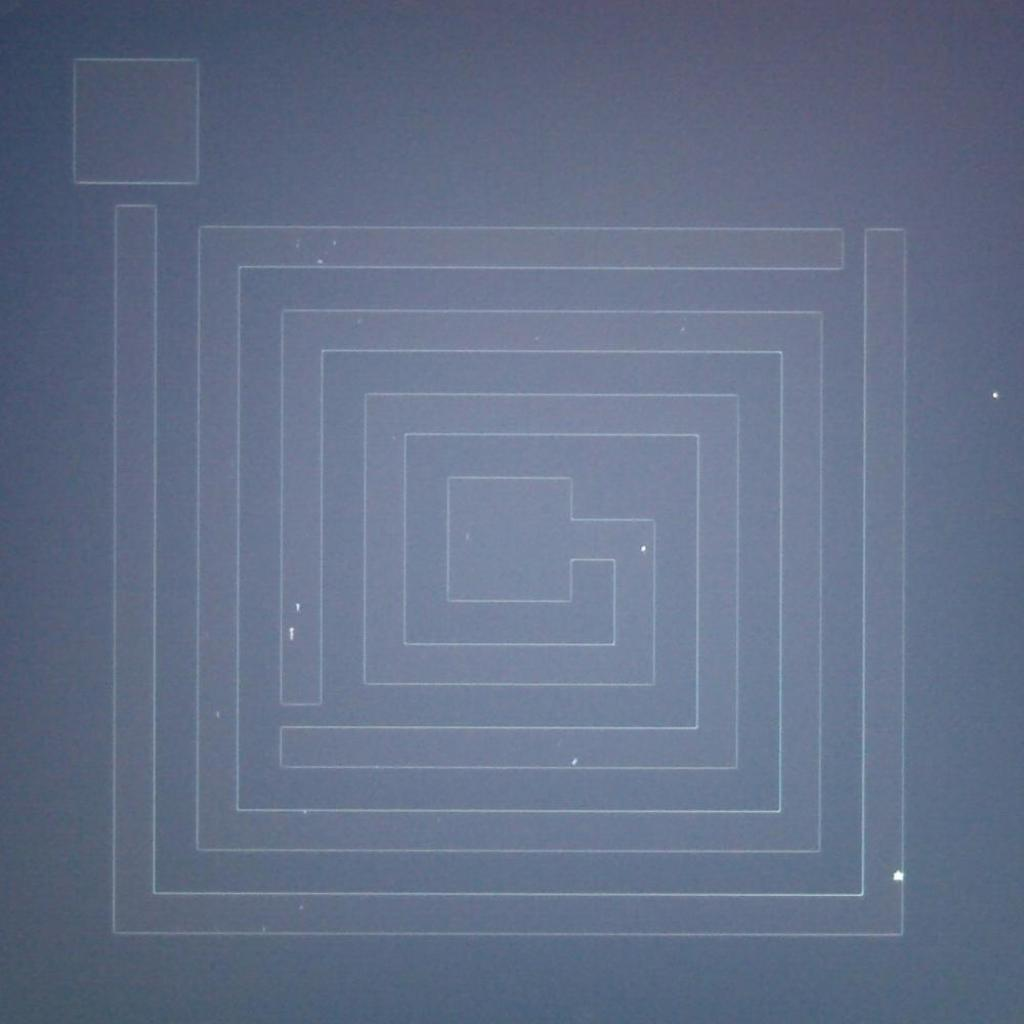dot: (286, 628, 298, 640), (894, 870, 904, 882), (295, 602, 301, 610), (572, 758, 578, 766), (992, 393, 998, 398), (642, 547, 646, 551)
